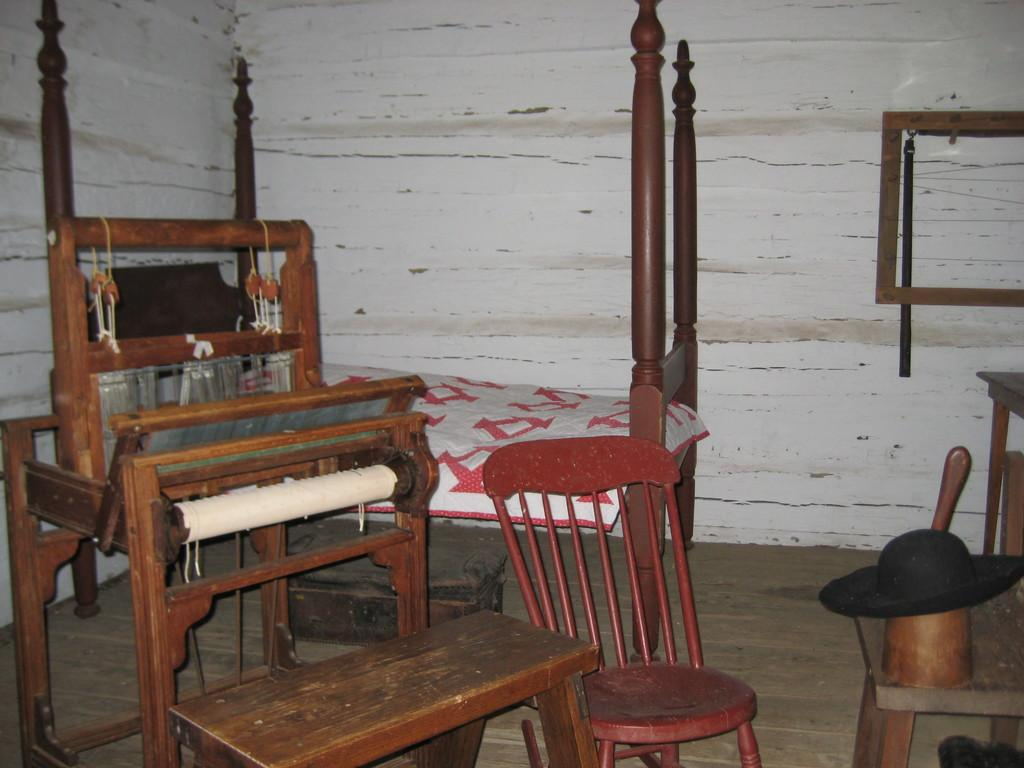Hat: (818, 526, 1023, 620)
